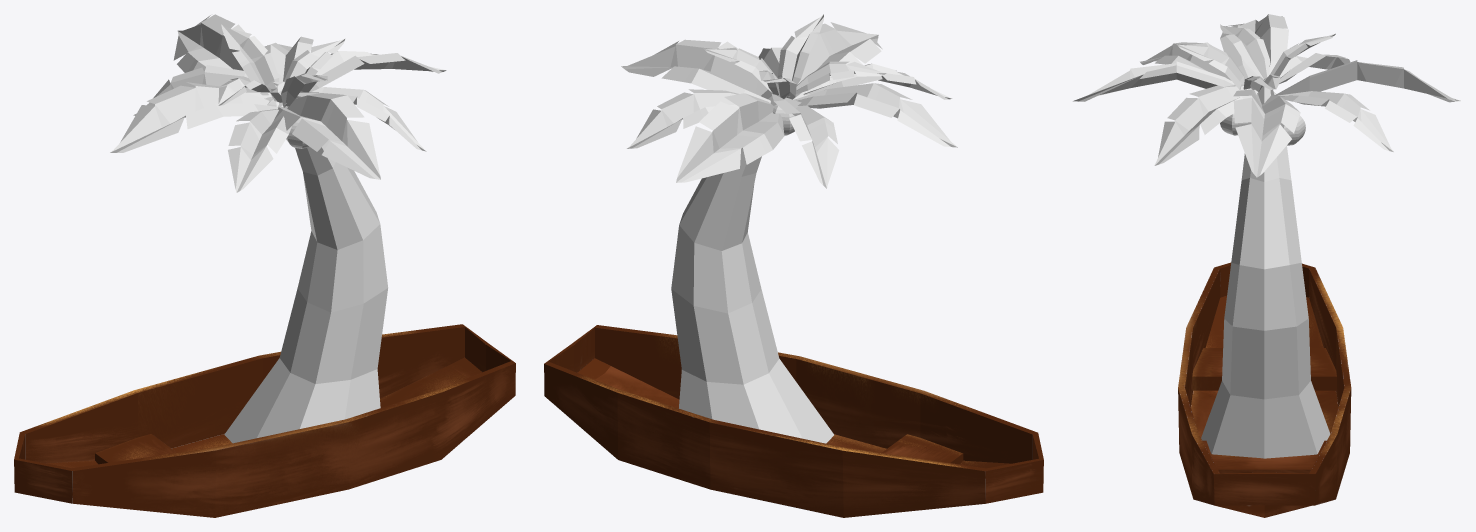
Rendered from CANOA 01.fbx.
3 renders of one model, left to right at view 1: azimuth 30°, elevation 25°; view 2: azimuth 150°, elevation 25°; view 3: azimuth 270°, elevation 25°, orthographic. The views are drawn at different scales.
Visible parts, largest first — view 1: Cube.001, Cube, Plane.003, Plane.004, Plane.007, Plane, Plane.002, Plane.011, Plane.005, Plane.001, Plane.009, Plane.006 (+2 smaller); view 2: Cube.001, Cube, Plane, Plane.002, Plane.004, Plane.006, Plane.003, Plane.001, Plane.010, Plane.007, Plane.008, Plane.009 (+1 smaller); view 3: Cube, Cube.001, Plane.002, Plane.005, Plane, Plane.003, Plane.006, Plane.004, Plane.008, Plane.010, Plane.007, Plane.001 (+2 smaller).
Boxes of the visible parts, <box> form: Cube.001: <box>14,324,515,517</box>; Cube: <box>224,81,388,443</box>; Plane.003: <box>273,93,380,179</box>; Plane.004: <box>110,82,277,152</box>; Plane.007: <box>228,109,291,192</box>; Plane: <box>173,14,265,98</box>; Plane.002: <box>278,51,446,107</box>; Plane.011: <box>221,24,279,100</box>; Plane.005: <box>297,87,426,151</box>; Plane.001: <box>133,65,271,115</box>; Plane.009: <box>284,38,345,108</box>; Plane.006: <box>264,36,313,81</box>; Cube.001: <box>544,325,1043,517</box>; Cube: <box>671,89,833,443</box>; Plane: <box>676,93,784,182</box>; Plane.002: <box>621,39,793,103</box>; Plane.004: <box>794,83,957,147</box>; Plane.006: <box>627,89,739,148</box>; Plane.003: <box>793,22,882,99</box>; Plane.001: <box>772,93,839,188</box>; Plane.010: <box>778,14,823,85</box>; Plane.007: <box>803,63,951,99</box>; Plane.008: <box>788,61,886,96</box>; Plane.009: <box>703,47,777,92</box>; Cube: <box>1201,76,1330,458</box>; Cube.001: <box>1178,262,1351,517</box>; Plane.002: <box>1233,89,1300,177</box>; Plane.005: <box>1154,84,1258,165</box>; Plane: <box>1275,60,1460,102</box>; Plane.003: <box>1073,61,1234,101</box>; Plane.006: <box>1277,91,1393,151</box>; Plane.004: <box>1220,14,1288,78</box>; Plane.008: <box>1220,24,1269,79</box>; Plane.010: <box>1176,43,1244,90</box>; Plane.007: <box>1140,42,1231,80</box>; Plane.001: <box>1278,53,1350,83</box>.
Size of the model in its own units: 1530 by 1341 by 1135.
2 materials, 1 textured.
